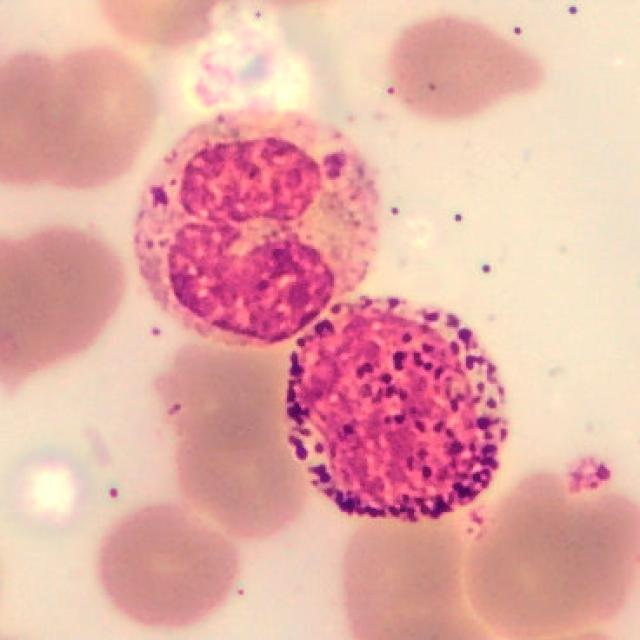Neutrofilo segmentado: (134, 114, 381, 349)
Promielocito: (285, 298, 510, 522)
